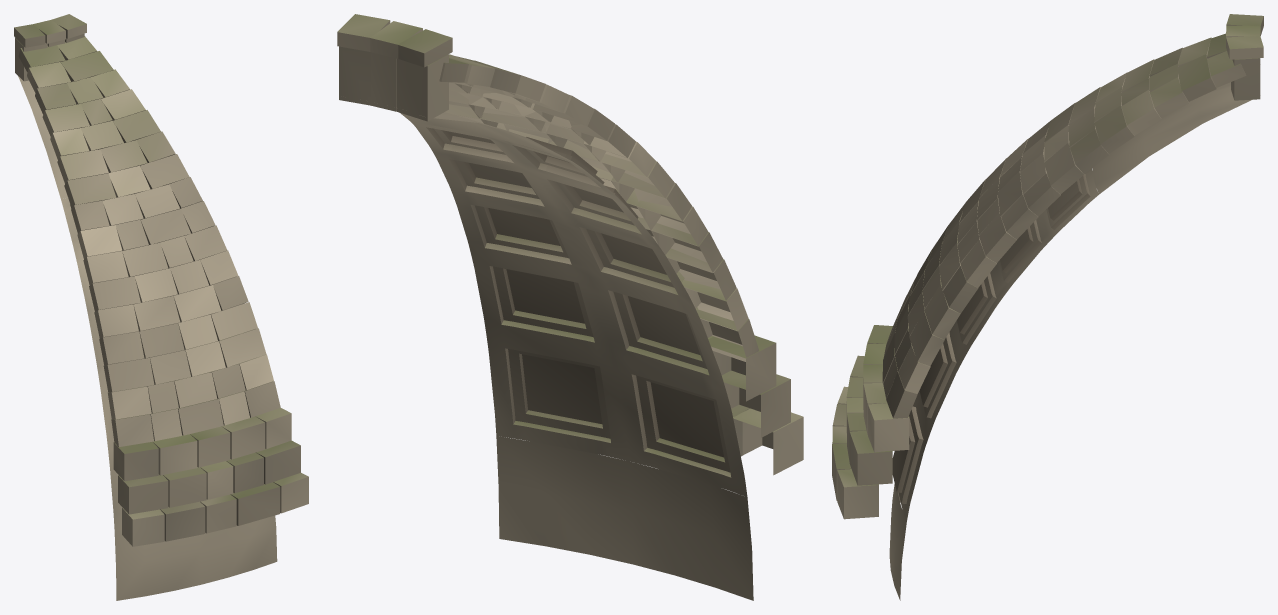
The model's file is dome_shell_mid.glb.
The picture shows the model from 3 angles, left to right: view 1: azimuth 30°, elevation 25°; view 2: azimuth 150°, elevation 25°; view 3: azimuth 270°, elevation 25°; orthographic projection. The views are drawn at different scales.
Parts seen in each view (by area): view 1: dome_shell_mid; view 2: dome_shell_mid; view 3: dome_shell_mid.
Boxes of the visible parts, x1,y1,x2,y2 form: dome_shell_mid: (14, 14, 308, 600); dome_shell_mid: (337, 14, 803, 600); dome_shell_mid: (832, 14, 1263, 600).
Bounding box in the file's own units: 20.09 × 48.72 × 36.42.
